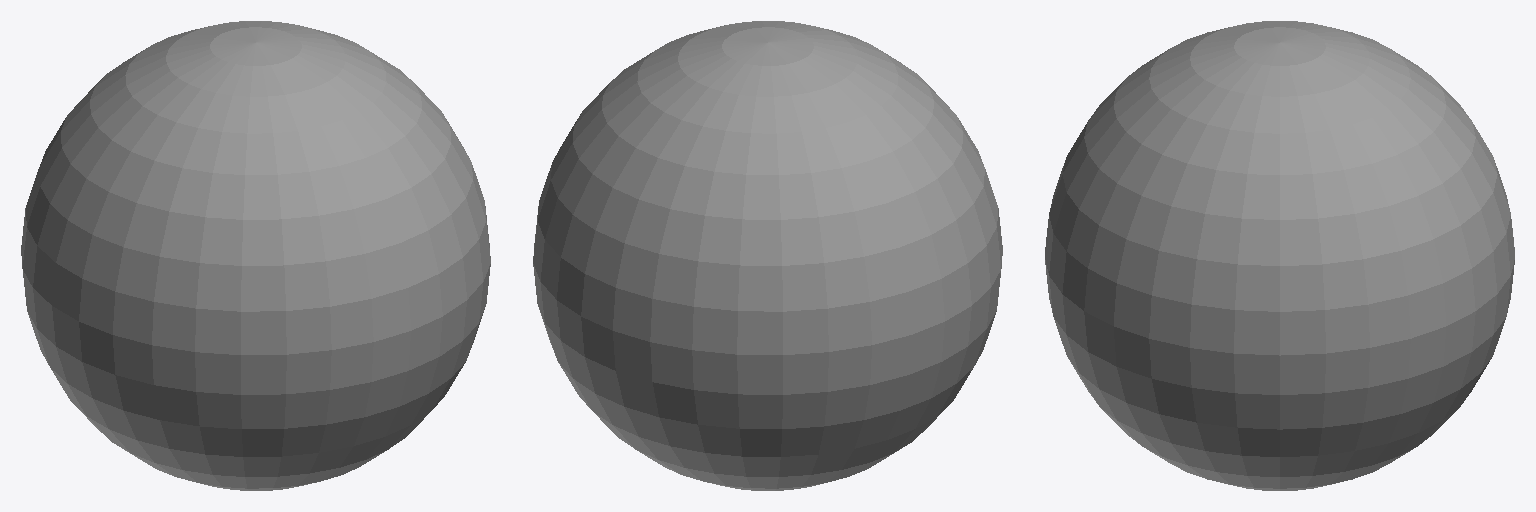
Rendered from ball_homeroom.obj.
3 views of the same model, side by side, from view 1: azimuth 30°, elevation 25°; view 2: azimuth 150°, elevation 25°; view 3: azimuth 270°, elevation 25° (orthographic).
Parts seen in each view (by area): view 1: Sphere; view 2: Sphere; view 3: Sphere.
Part boxes in pixels (x1,y1,x2,y2): Sphere: (21, 21, 490, 490); Sphere: (533, 21, 1002, 490); Sphere: (1045, 21, 1514, 490).
Size of the model in its own units: 3.82 by 3.82 by 3.82.